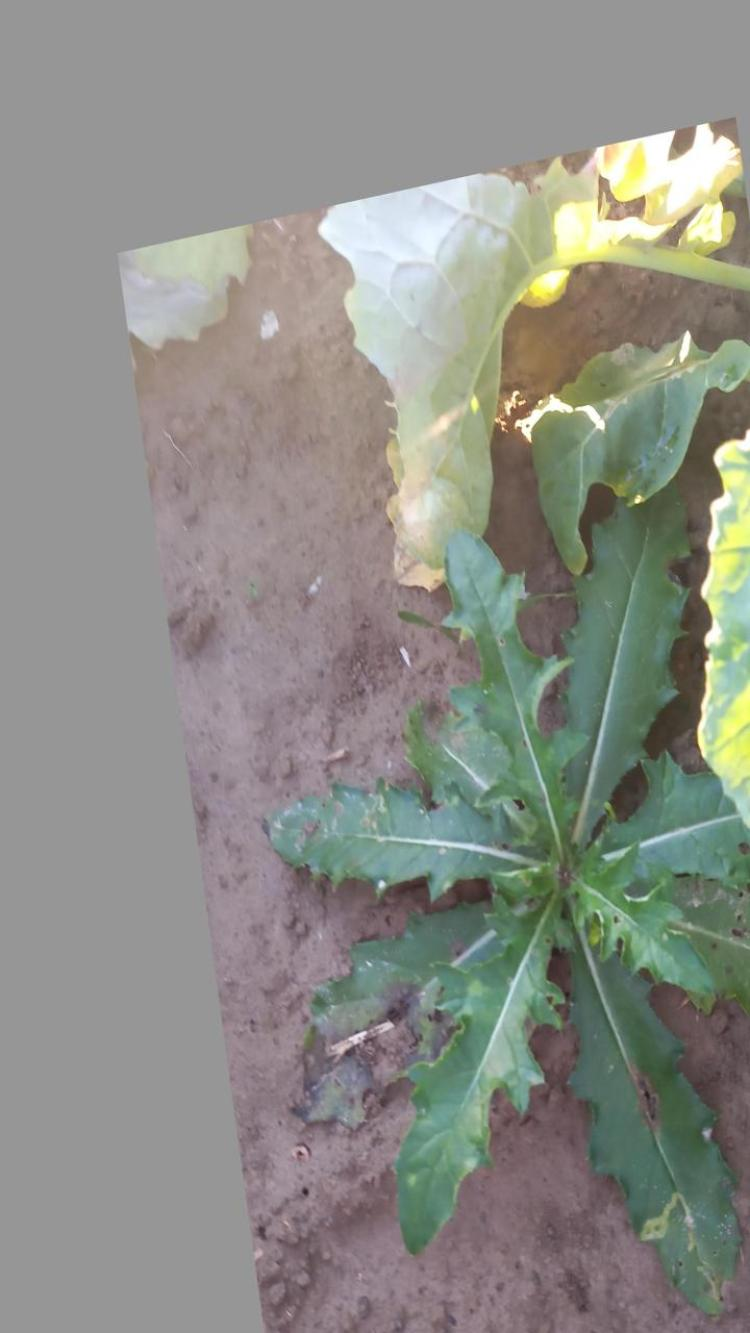bodyak: (264, 485, 746, 1325)
